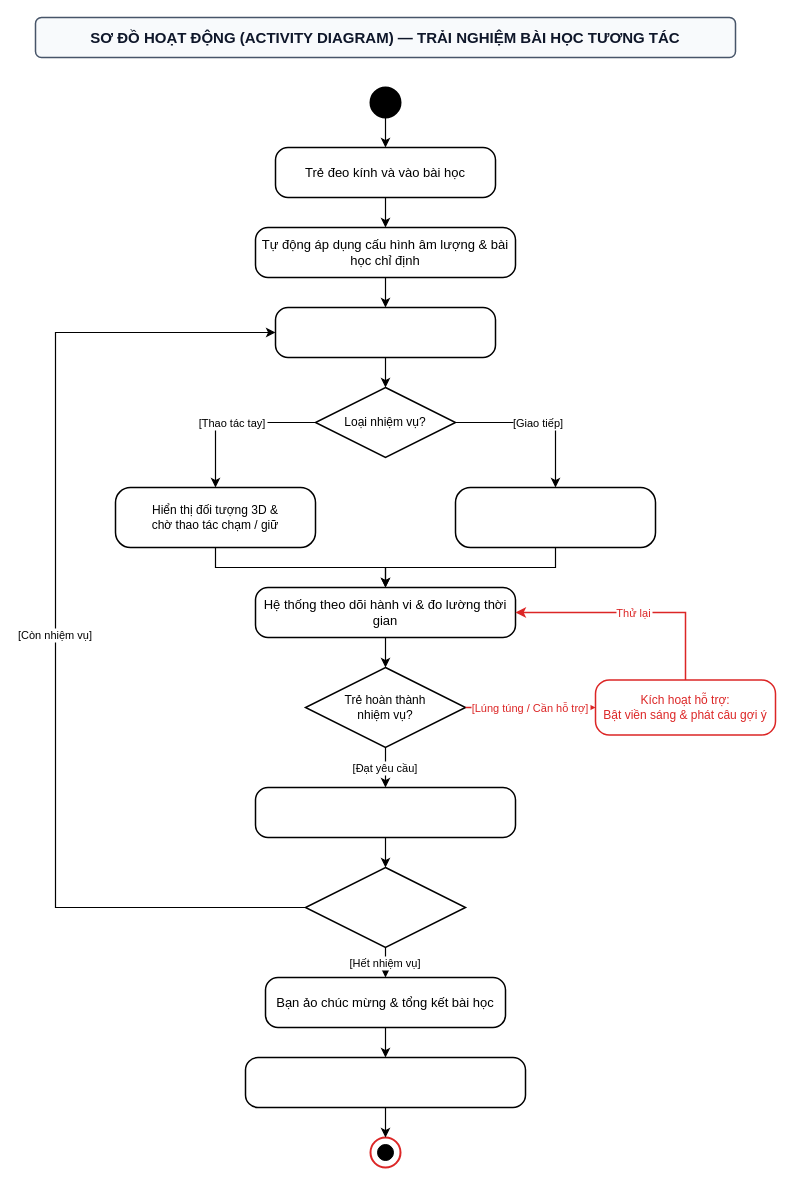
The diagram is 793 pixels wide and 1186 high, and some of its shapes have lost their labels. Each missing label, with the box of its shape:
Bạn ảo đặt câu hỏi gợi mở & mở micro lắng nghe trẻ: (454, 486, 656, 548)
Còn nhiệm vụ tiếp theo?: (304, 866, 466, 948)
Ghi nhận nhật ký nhiệm vụ (thời gian, gợi ý): (254, 786, 516, 838)
Kích hoạt nhiệm vụ học tập (Quest): (274, 306, 496, 358)
Đồng bộ toàn bộ dữ liệu phiên học lên hệ thống: (244, 1056, 526, 1108)
